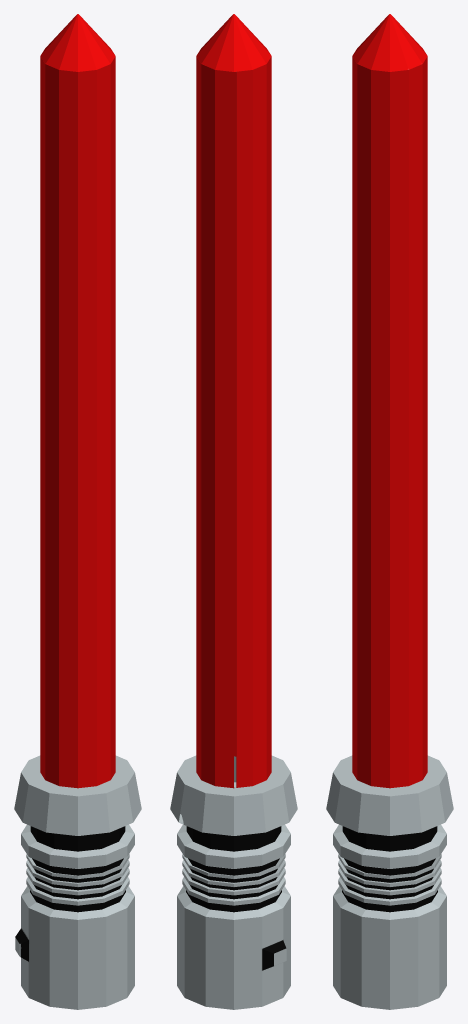
Rendered from Saber_Red.fbx.
3 renders of one model, left to right at view 1: azimuth 30°, elevation 25°; view 2: azimuth 150°, elevation 25°; view 3: azimuth 330°, elevation 25°, orthographic.
Parts seen in each view (by area): view 1: pCylinder2; view 2: pCylinder2; view 3: pCylinder2.
Part boxes in pixels (<box>): pCylinder2: <box>14,14,141,1009</box>; pCylinder2: <box>170,14,297,1009</box>; pCylinder2: <box>326,14,453,1009</box>.
Bounding box in the file's own units: 2.24 × 18.82 × 2.24.
Materials: 1 (1 with a texture image).
